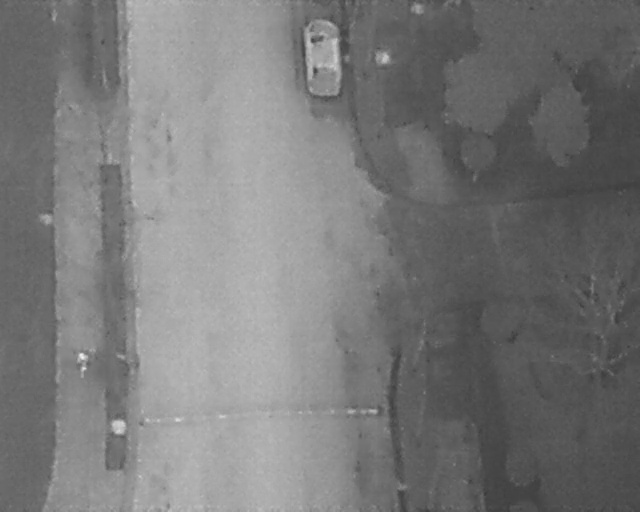Car: (303, 20, 344, 97)
